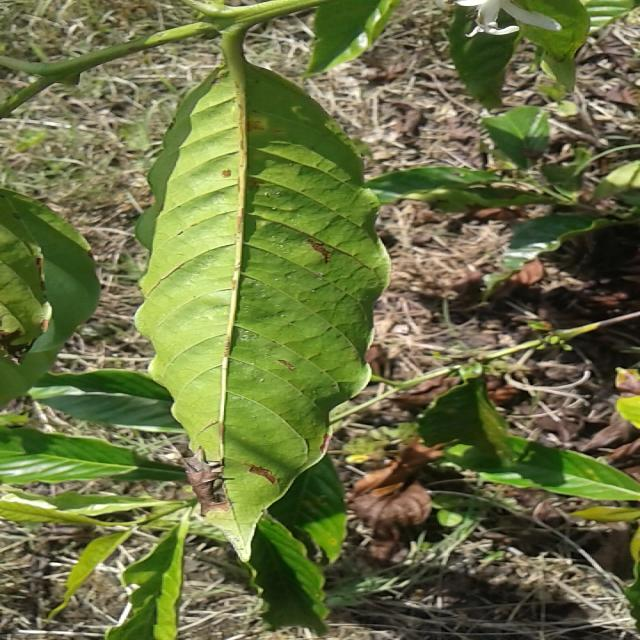Enfermedad-Roya: (134, 23, 389, 536)
